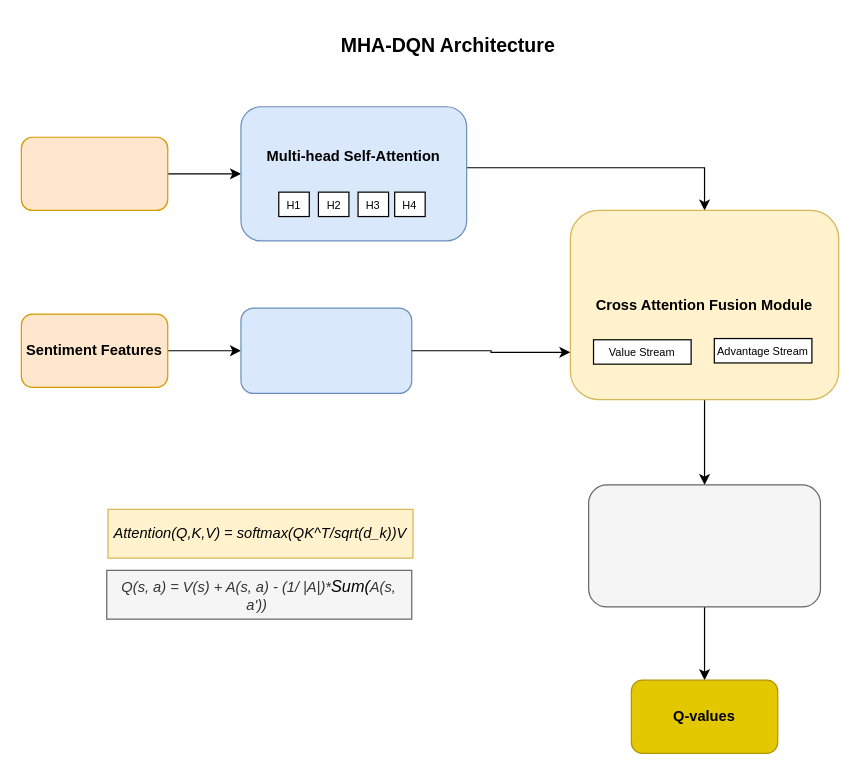
Some shapes in this 860 by 775 pixel diagram are drawn without their labels. The centre of each missing label's shape, as x and y in pixels:
"Dueling DQN Network" belongs at (703,545).
"Market Features" belongs at (94,173).
"Temporal Positional Encoding" belongs at (326,350).
